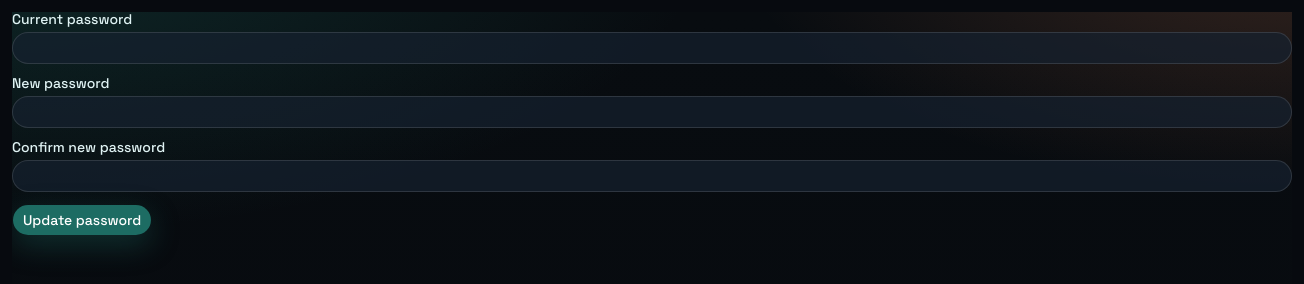
Test case: GlotCap PasswordChangeSection › submits password change and shows success
The width and height of the screenshot is (1304, 284).
Step 1. Type "old-pass" into the password field labelled "Current password" → [652, 48], box [12,32,1292,64]
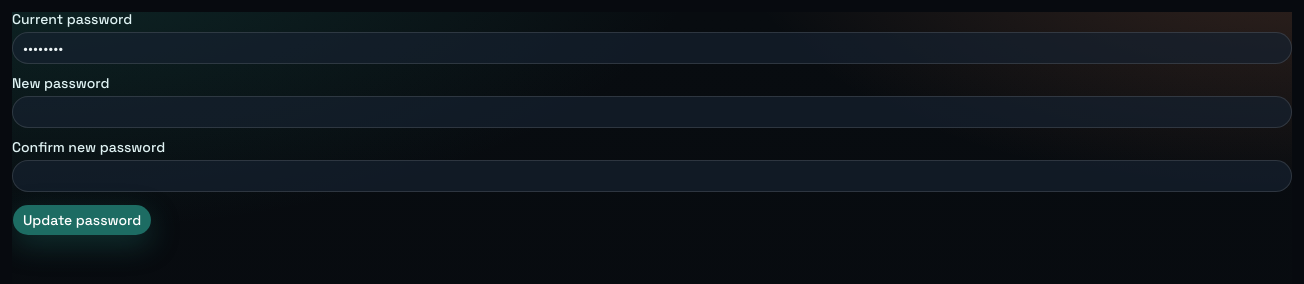
Step 2. Type "new-pass-123" into the password field labelled "New password" → [652, 112], box [12,96,1292,128]
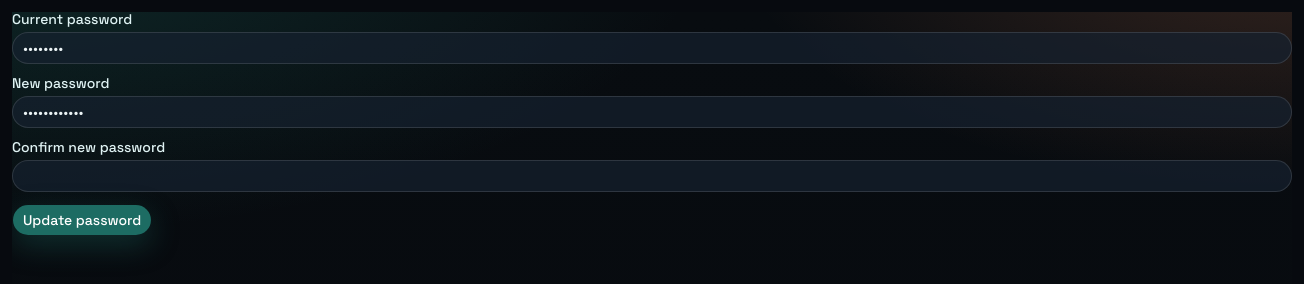
Step 3. Type "new-pass-123" into the password field labelled "Confirm new password" → [652, 176], box [12,160,1292,192]
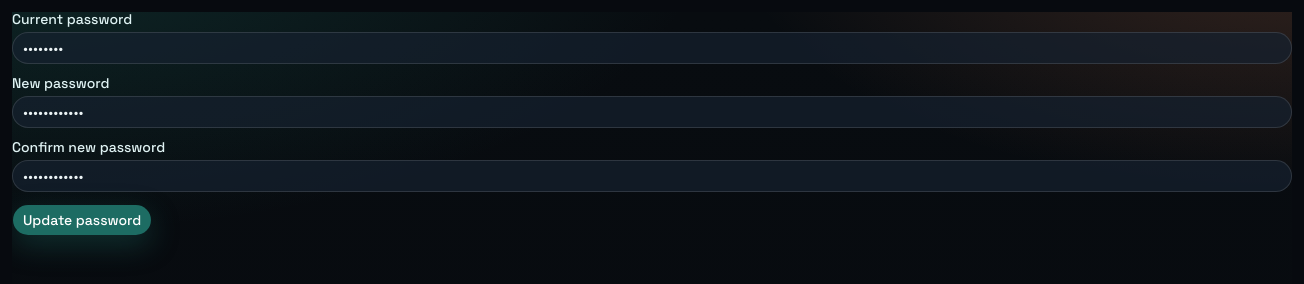
Step 4. Submit the form from the button "Update password", box [12,204,152,236]
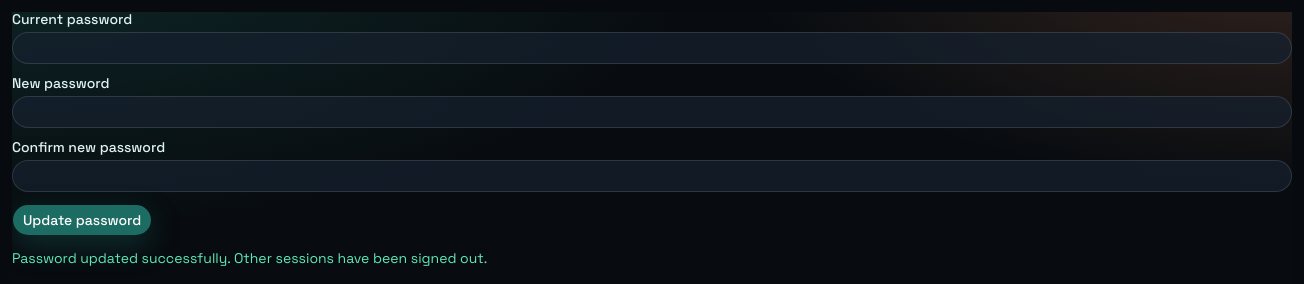
Check: the text "Password updated successfully. Other sessions have been signed out." is shown, box [12,249,487,267]
